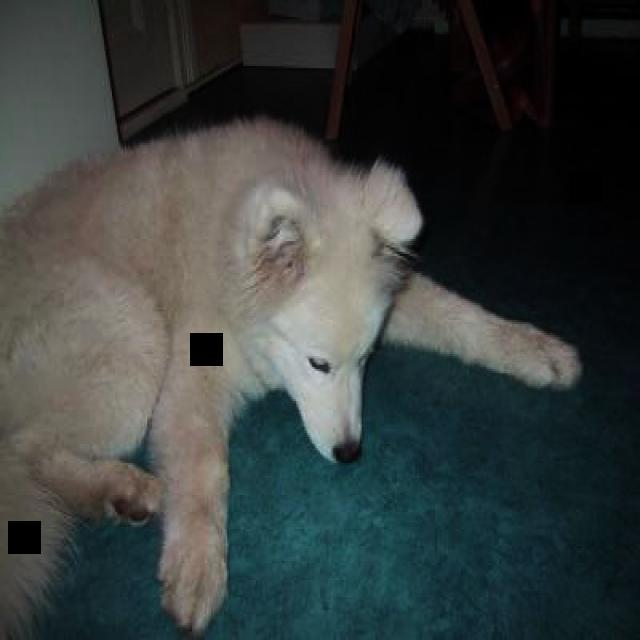adult_dog: (1, 106, 584, 634)
